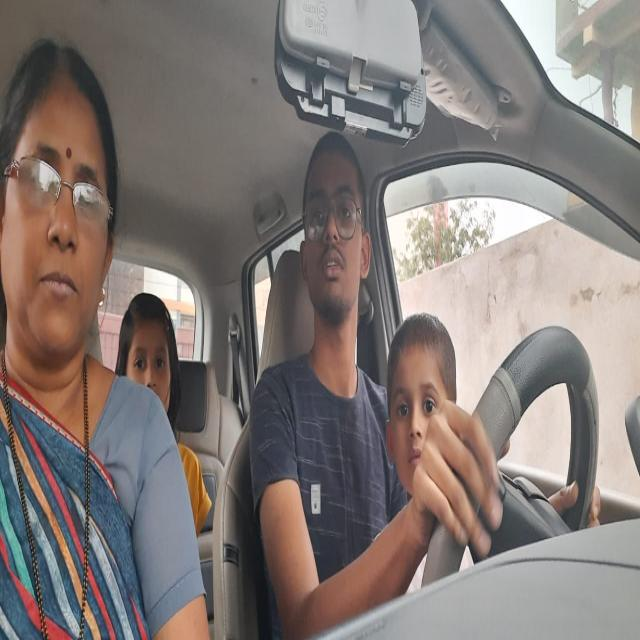child: (383, 313, 457, 483)
person: (0, 37, 124, 369), (299, 129, 374, 320), (114, 286, 184, 413)
